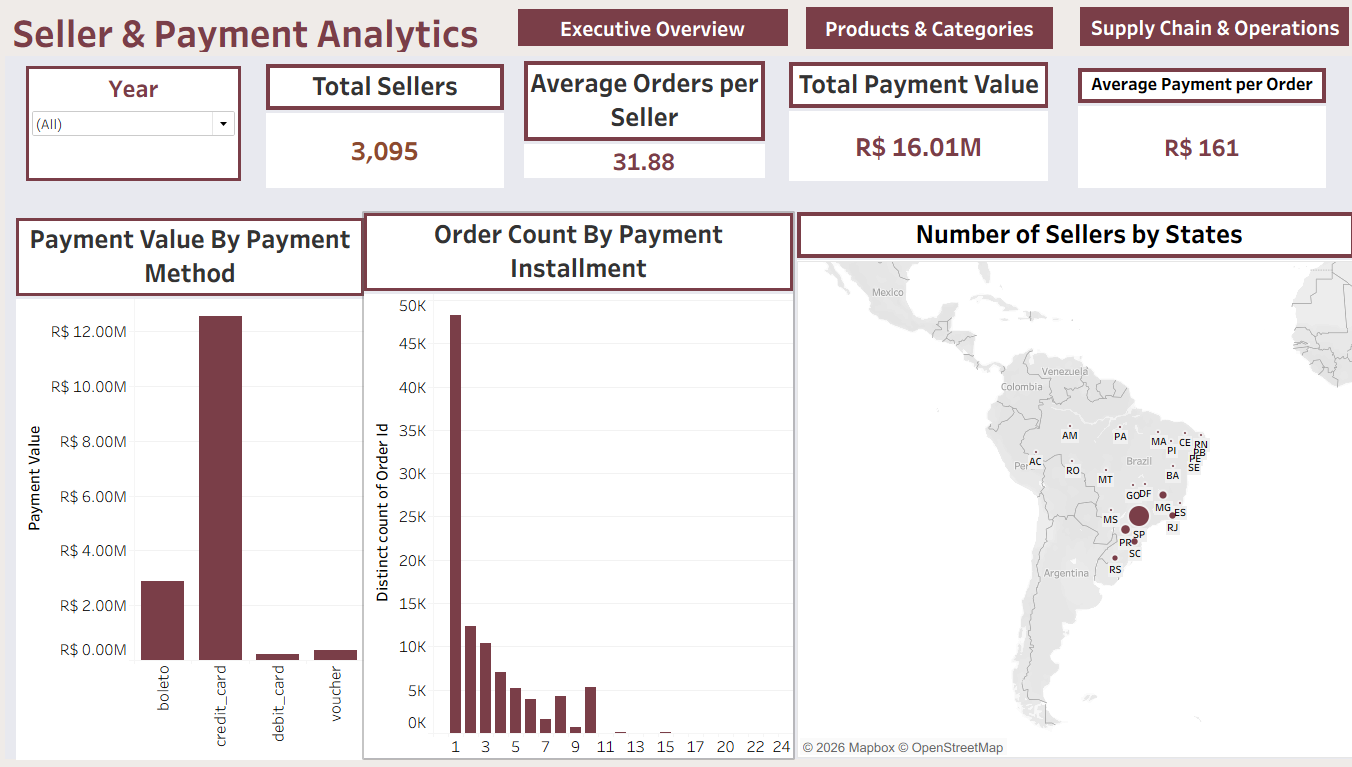

This screenshot's page, from the dashboard's own definition file:
{"tool":"tableau","page":{"name":"Seller &Payment Analytics","canvas":[1366,768],"ordinal":2},"visuals":[{"type":"title","box":[8,8,1350,49]},{"type":"dashboard-object","box":[809,8,247,42]},{"type":"dashboard-object","box":[1083,8,270,39]},{"type":"dashboard-object","box":[521.4,9.6,270.3,37.3]},{"type":"worksheet","title":"Avg Orders per Seller","mark":"Automatic","box":[527.2,62.2,241.5,116.8]},{"type":"worksheet","title":"Total Payment Value","mark":"Automatic","box":[791.7,63.2,259.7,118.7]},{"type":"worksheet","title":"total sellers 4","mark":"Automatic","box":[269.3,65.1,237.6,124.5]},{"type":"filter","title":"Payment Value by Payment Method","param":"[federated.1q6kqwk0jk3ke51gepjcd15al0q6].[yr:order_purchase_timestamp:ok]","box":[28.9,67,215.5,114.9]},{"type":"worksheet","title":"AVG PAYMENT PER ORDER","mark":"Automatic","box":[1081.3,69,248.2,119.7]},{"type":"worksheet","title":"number of sellers by state","mark":"Circle","box":[800,213,559,546]},{"type":"worksheet","title":"Order count by payment installment","mark":"Bar","rows":["order_id"],"cols":["Calculation_620089430405816323"],"box":[367,214,429,545]},{"type":"worksheet","title":"Payment Value by Payment Method","mark":"Automatic","rows":["payment_value"],"cols":["payment_type"],"box":[19,219,348,542]}]}

Visuals, with their boxes in screenshot pixels (x1, y1, x2, y2), scaled from the page's 1366x768 canvas onto the 1352x767 screenshot:
title: bbox=(8, 8, 1344, 57)
dashboard-object: bbox=(801, 8, 1045, 50)
dashboard-object: bbox=(1072, 8, 1339, 47)
dashboard-object: bbox=(516, 10, 784, 47)
"Avg Orders per Seller" worksheet: bbox=(522, 62, 761, 179)
"Total Payment Value" worksheet: bbox=(784, 63, 1041, 182)
"total sellers 4" worksheet: bbox=(267, 65, 502, 189)
"Payment Value by Payment Method" filter: bbox=(29, 67, 242, 182)
"AVG PAYMENT PER ORDER" worksheet: bbox=(1070, 69, 1316, 188)
"number of sellers by state" worksheet (Circle marks): bbox=(792, 213, 1345, 758)
"Order count by payment installment" worksheet (Bar marks): bbox=(363, 214, 788, 758)
"Payment Value by Payment Method" worksheet: bbox=(19, 219, 363, 760)
